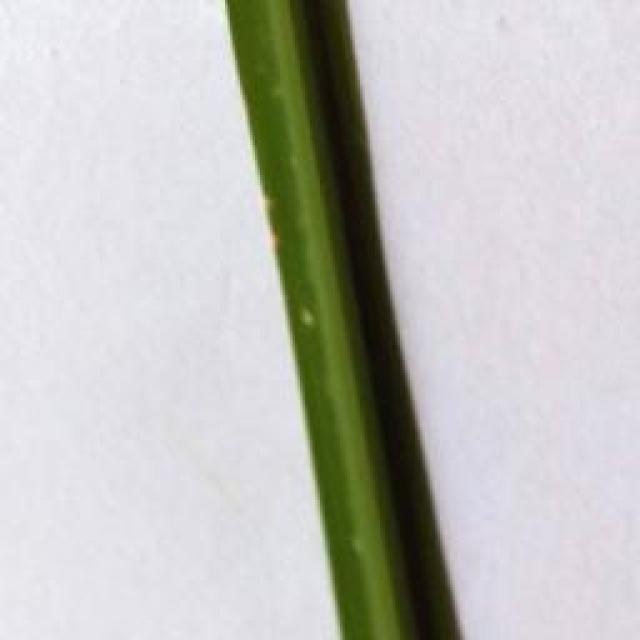Unhealthy: (266, 1, 403, 640), (261, 186, 282, 255), (299, 307, 316, 328)
